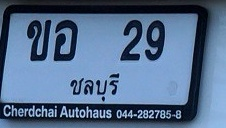txt02: (25, 18, 51, 63)
txt38: (52, 18, 79, 64)
